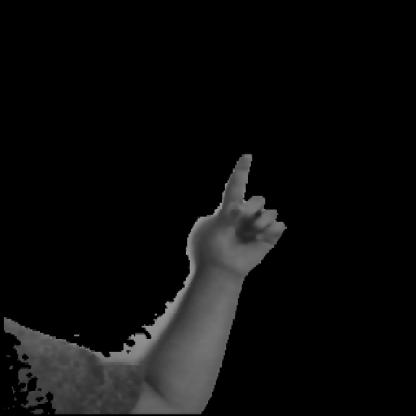one: (150, 130, 302, 367)
